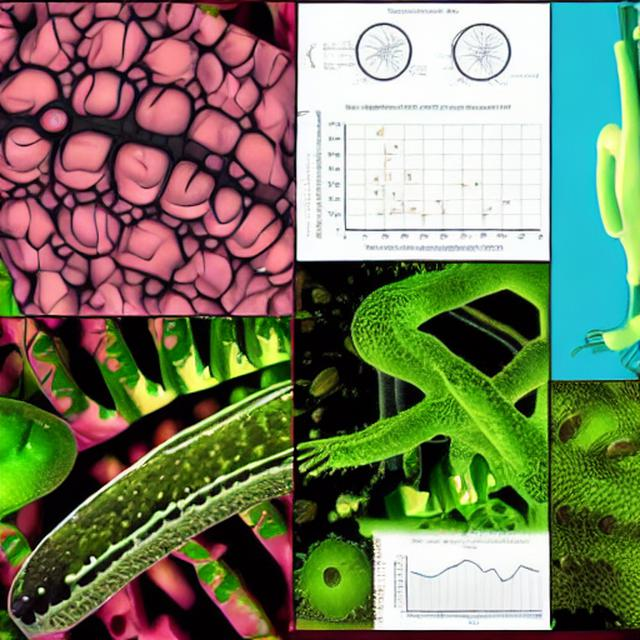Graph: (310, 95, 547, 256), (389, 537, 547, 627)
